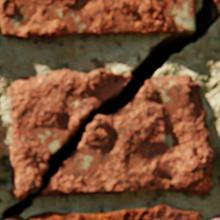brick: (0, 0, 193, 39), (25, 204, 200, 219), (213, 0, 219, 16), (3, 216, 23, 219), (209, 213, 219, 219)
broken_brick: (39, 76, 213, 196), (8, 70, 130, 200)
crack: (1, 0, 218, 219)
